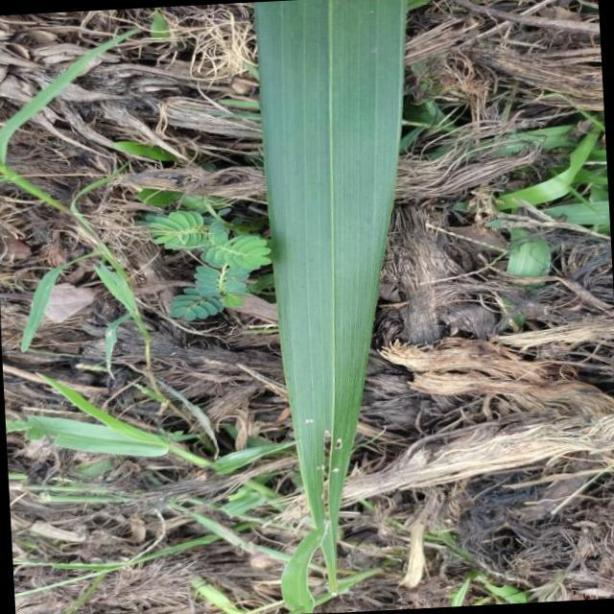Boron: (252, 0, 408, 603)
